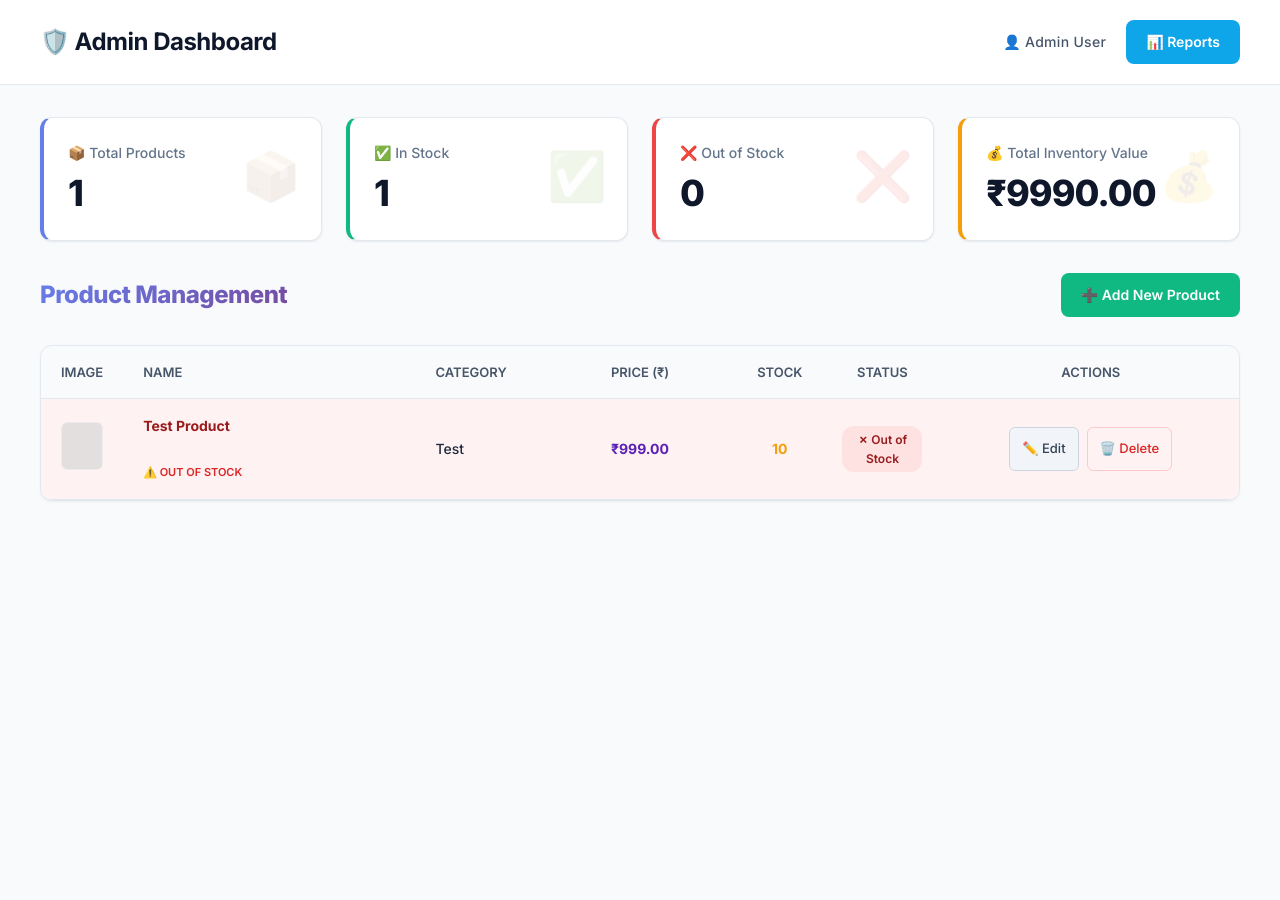
Test: AdminDashboard Component › Product CRUD Operations › should open edit modal when edit button clicked
expect the text "Test Product" is shown: met, box [143, 417, 230, 434]
Find and click edit button
Click the button "✏️ Edit" at (1044, 449), box [1009, 427, 1079, 471]
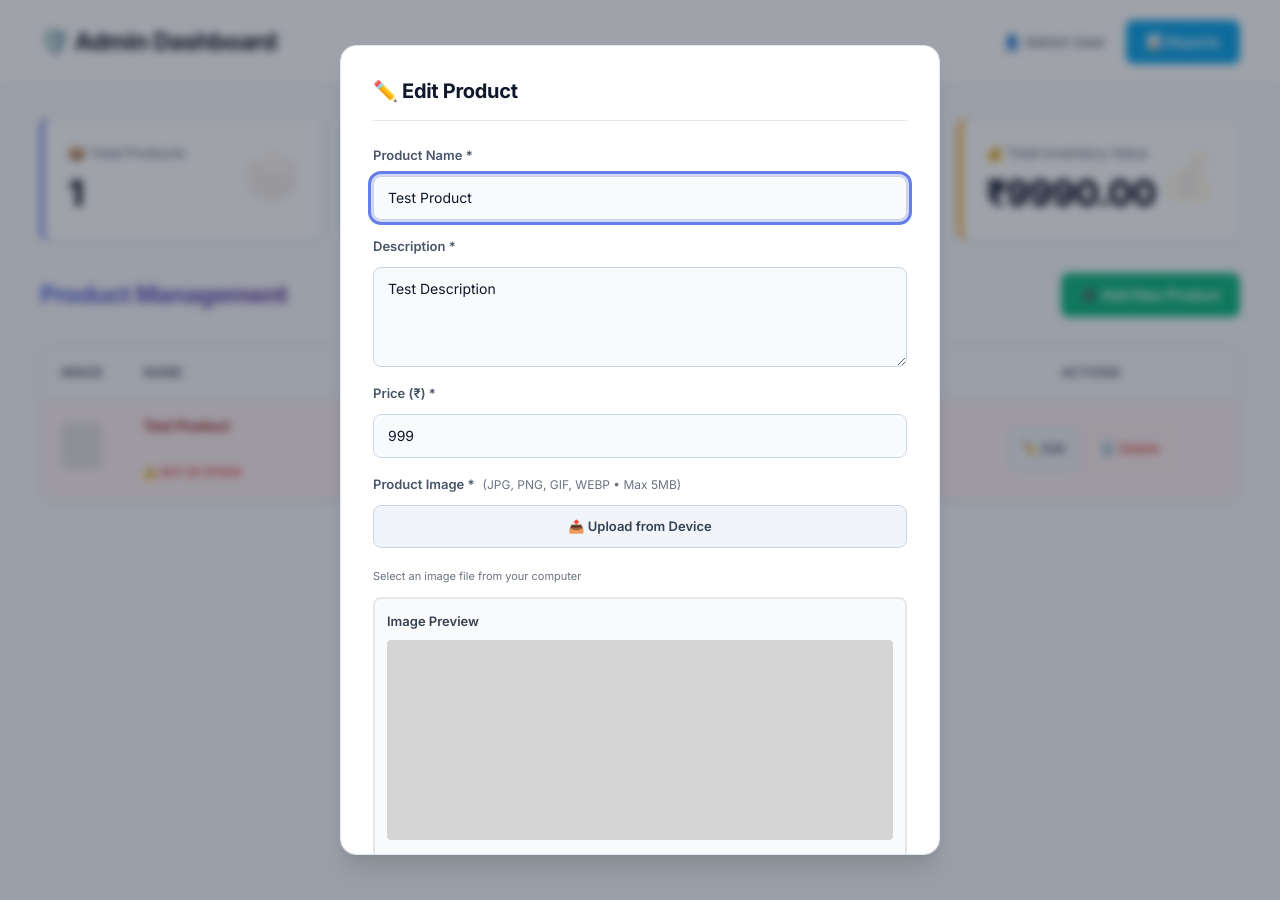
expect the field showing "Test Product" is shown: met, box [373, 176, 907, 220]
